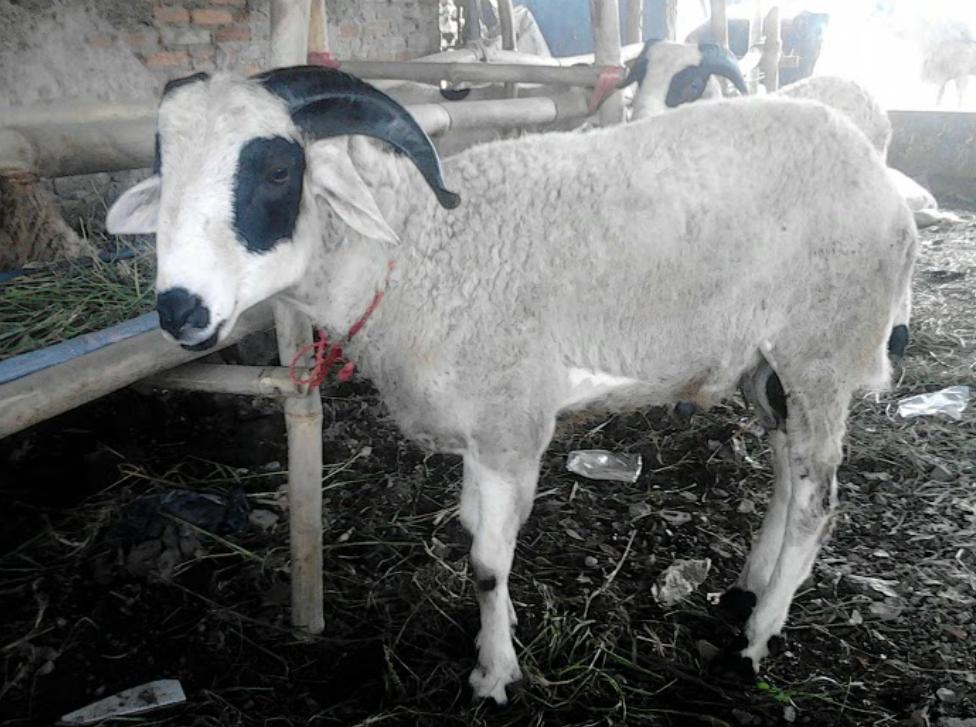Sheep: (99, 45, 464, 361)
